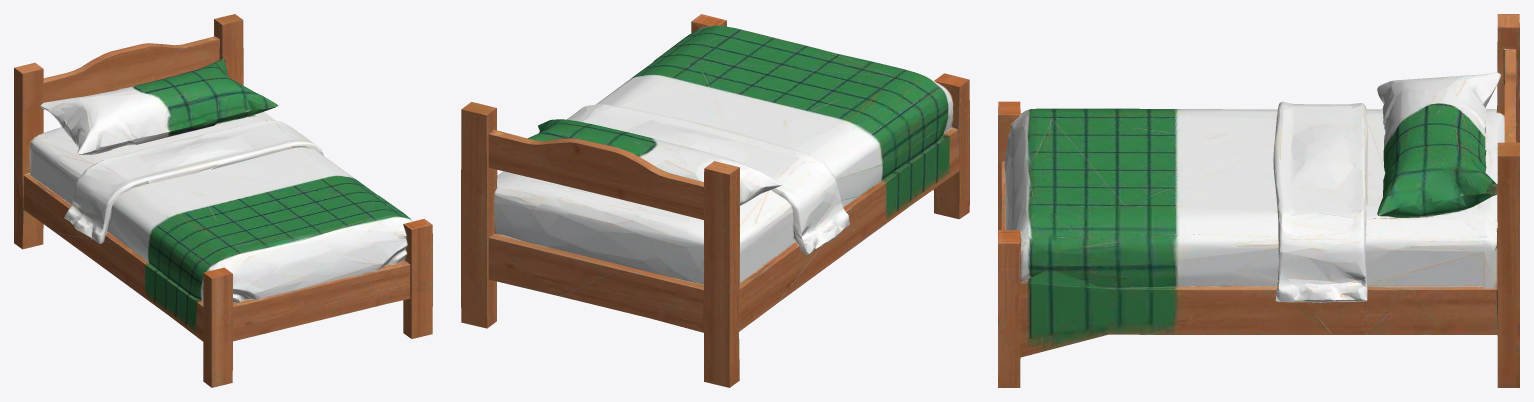
Rendered from single_bed.glb.
3 renders of one model, left to right at view 1: azimuth 30°, elevation 25°; view 2: azimuth 150°, elevation 25°; view 3: azimuth 270°, elevation 25°, orthographic. The views are drawn at different scales.
Size of the model in its own units: 1.36 by 0.9303 by 1.9.
1 material, 1 textured.
